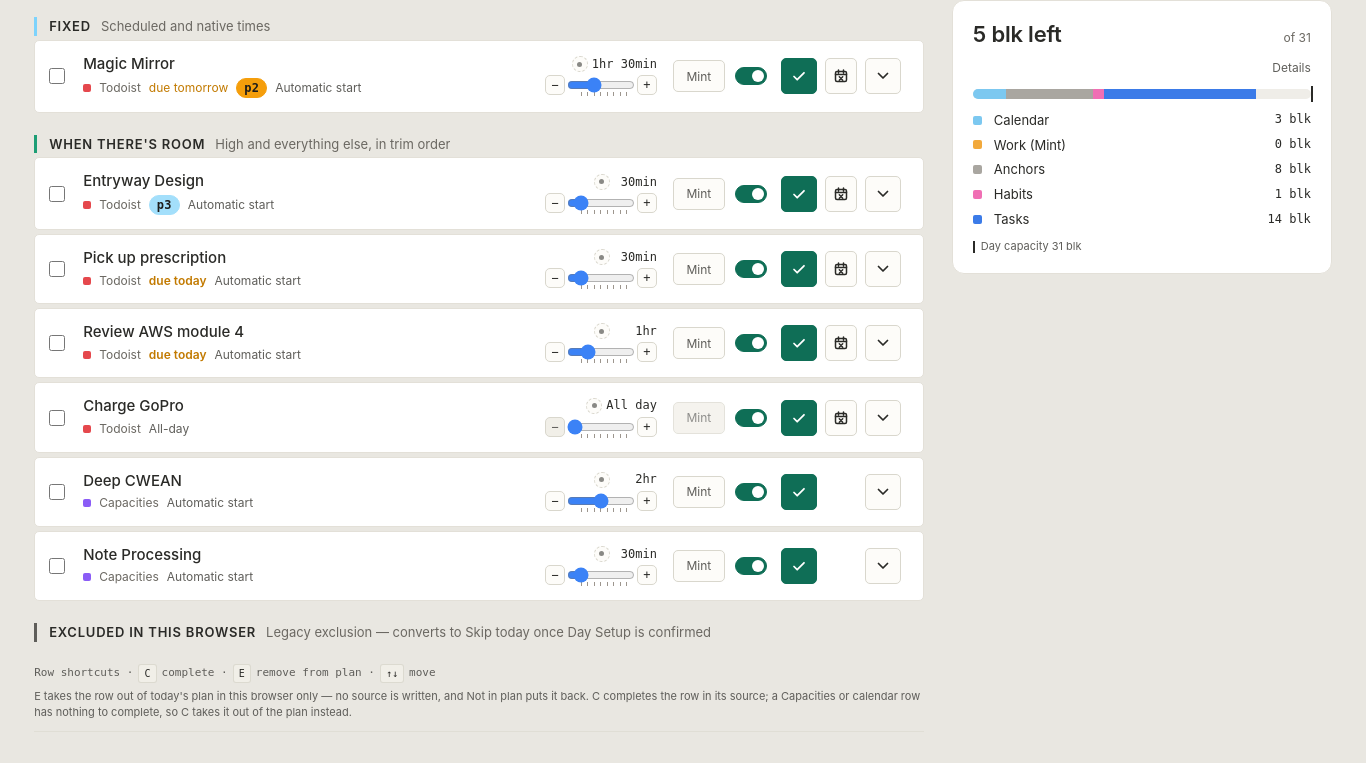
over-allotment is reported, never converted into a proposed drop (supersedes FEEDBACK-10 LP-01) › excluded rows stay readable: the state is marked by name, never washed out
This screenshot has width=1366, height=763.
(page scrolled)
Step 1. Click the button with class "band--drop" → [479, 632], box [34,623,924,642]
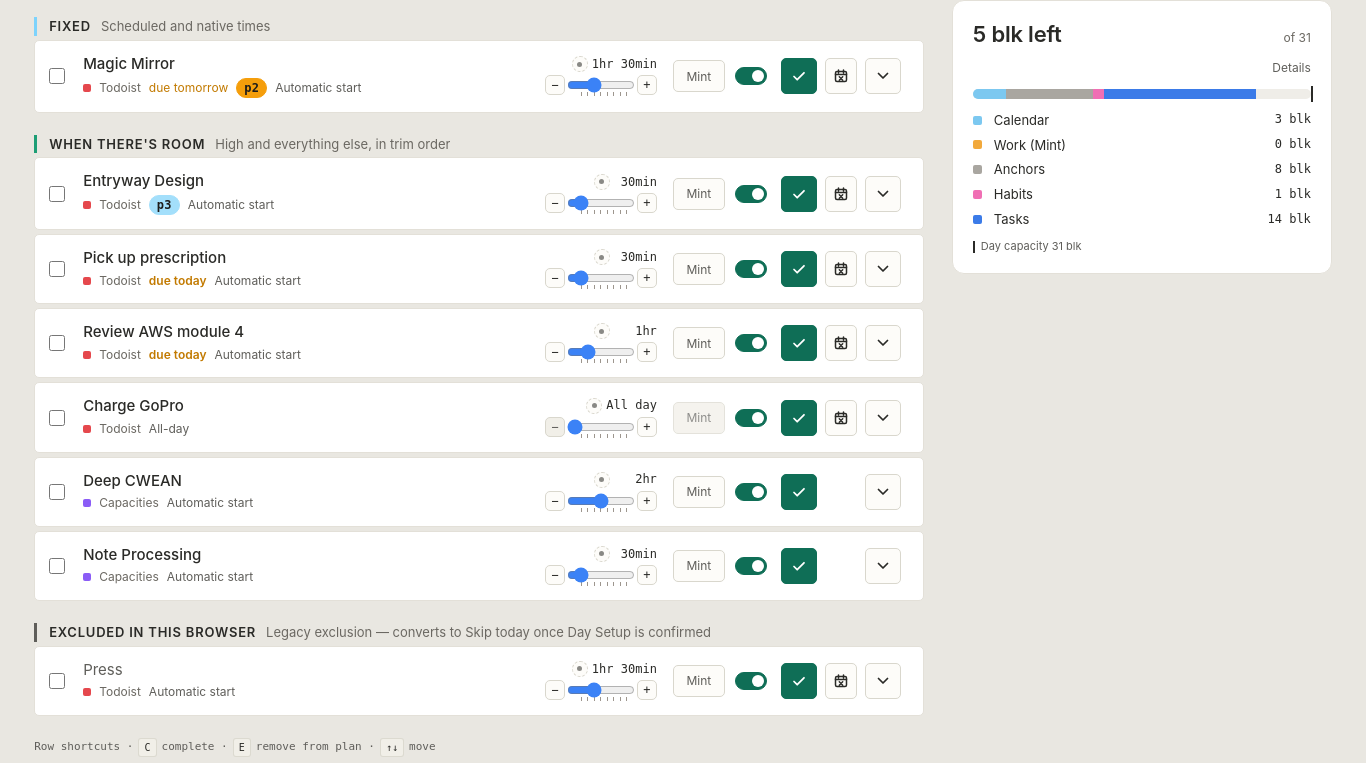
Check: the element showing "Press Todoist Automatic start 1hr 30min − + Mint" is shown, box [34,646,924,716]
Check: the text "Press" is shown, box [83,661,123,680]
